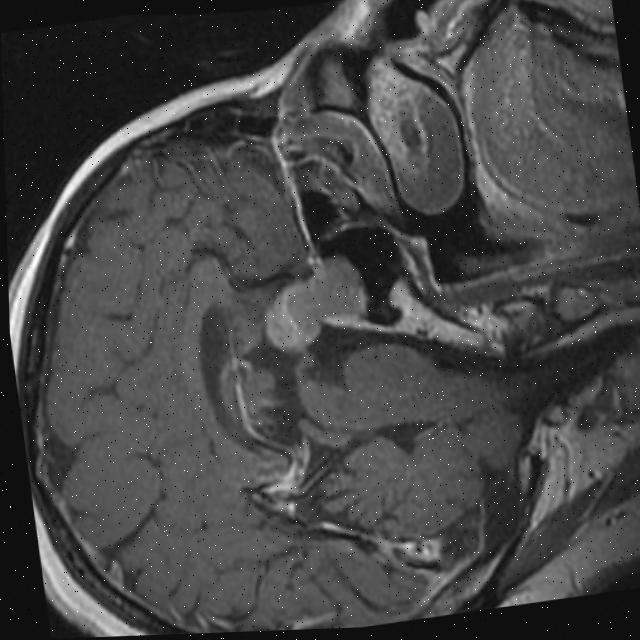Pituitary: (253, 249, 371, 352)
